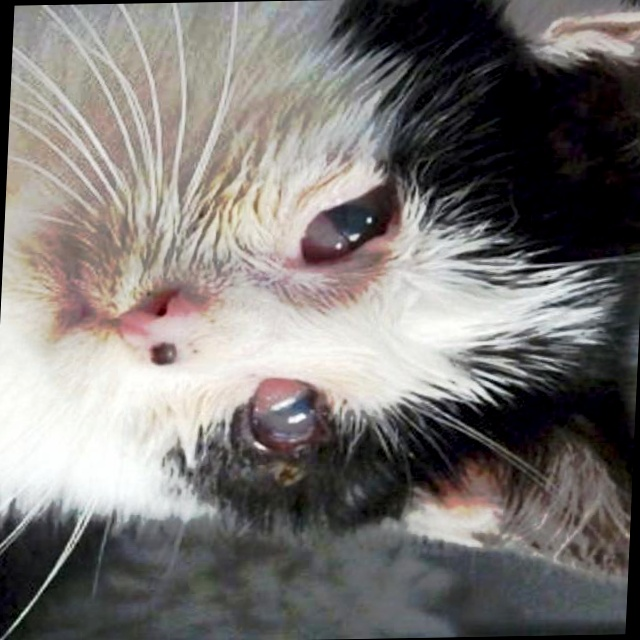eye_infection: (296, 175, 410, 274), (234, 372, 329, 469)
